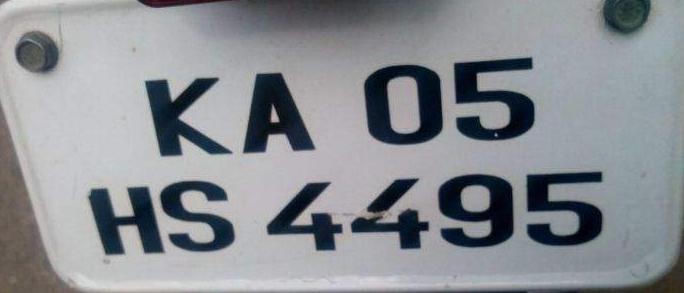0: (362, 62, 446, 145)
4: (346, 175, 432, 249), (264, 180, 347, 253)
5: (450, 53, 539, 140), (523, 169, 605, 247)
9: (436, 172, 518, 250)
A: (241, 71, 318, 153)
H: (82, 182, 167, 255)
K: (143, 73, 234, 158)
S: (157, 179, 239, 252)
